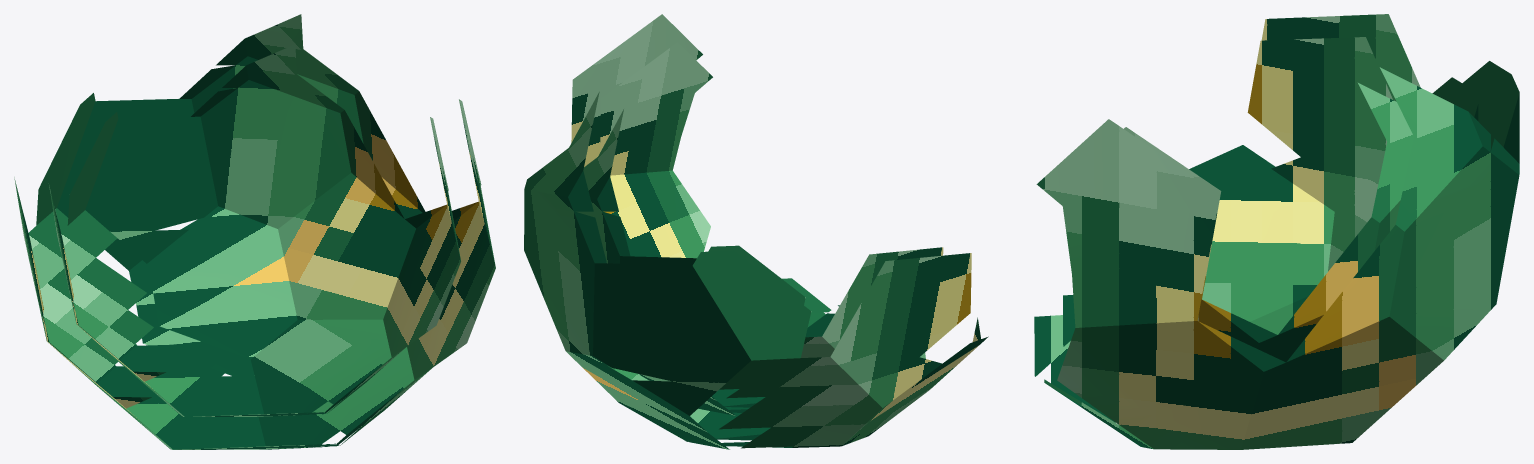
Rendered from delta_orb_2.obj.
3 renders of one model, left to right at view 1: azimuth 30°, elevation 25°; view 2: azimuth 150°, elevation 25°; view 3: azimuth 270°, elevation 25°, orthographic. The views are drawn at different scales.
Visible parts, largest first — view 1: pSolid4; view 2: pSolid4; view 3: pSolid4.
Boxes of the visible parts, x1,y1,x2,y2 form: pSolid4: [14, 14, 495, 449]; pSolid4: [524, 14, 988, 449]; pSolid4: [1034, 14, 1519, 449].
Bounding box in the file's own units: 0.8449 × 0.6899 × 0.7171.
